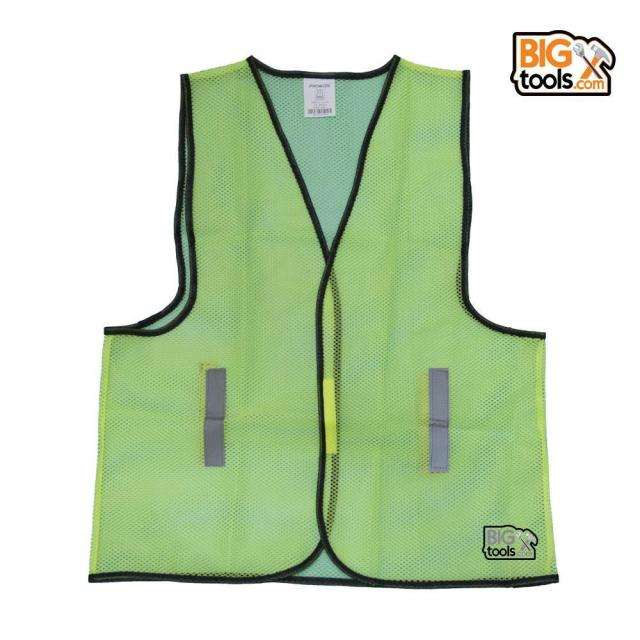Vest: (91, 52, 562, 590)
